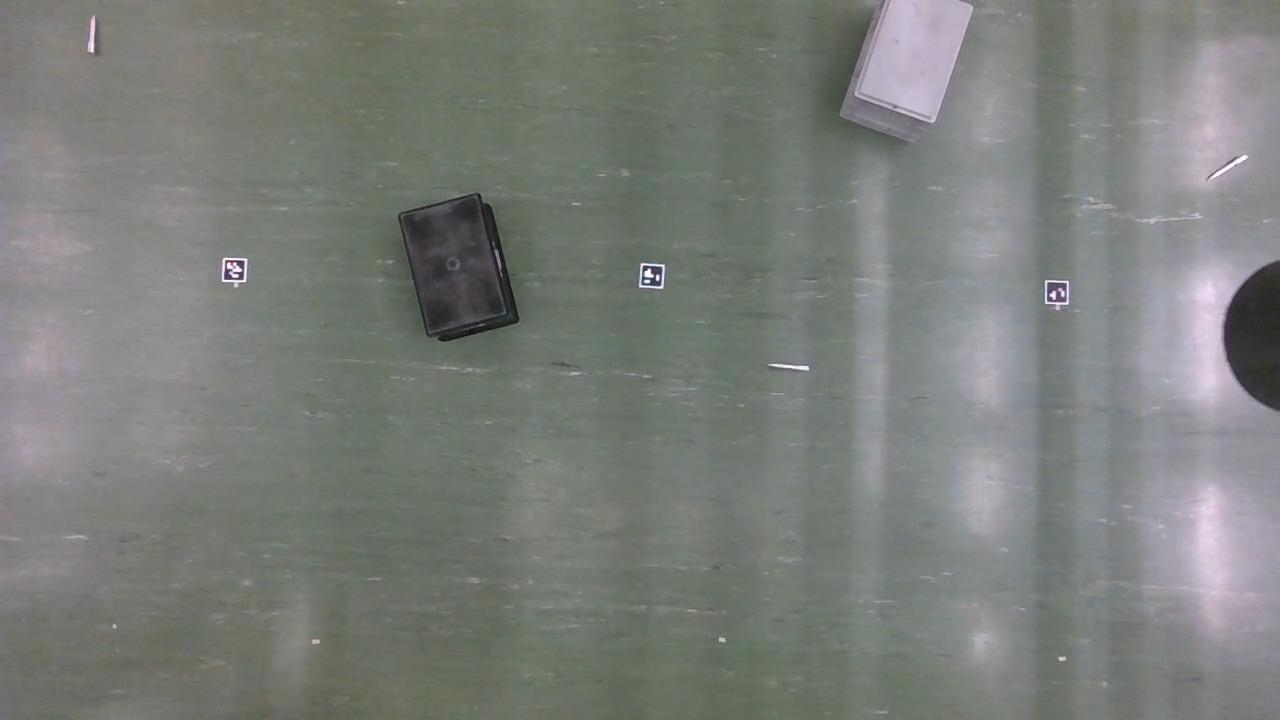probes: (1210, 155, 1247, 183), (769, 362, 808, 372), (88, 17, 97, 54)
rako: (837, 0, 972, 146), (400, 195, 519, 344)
